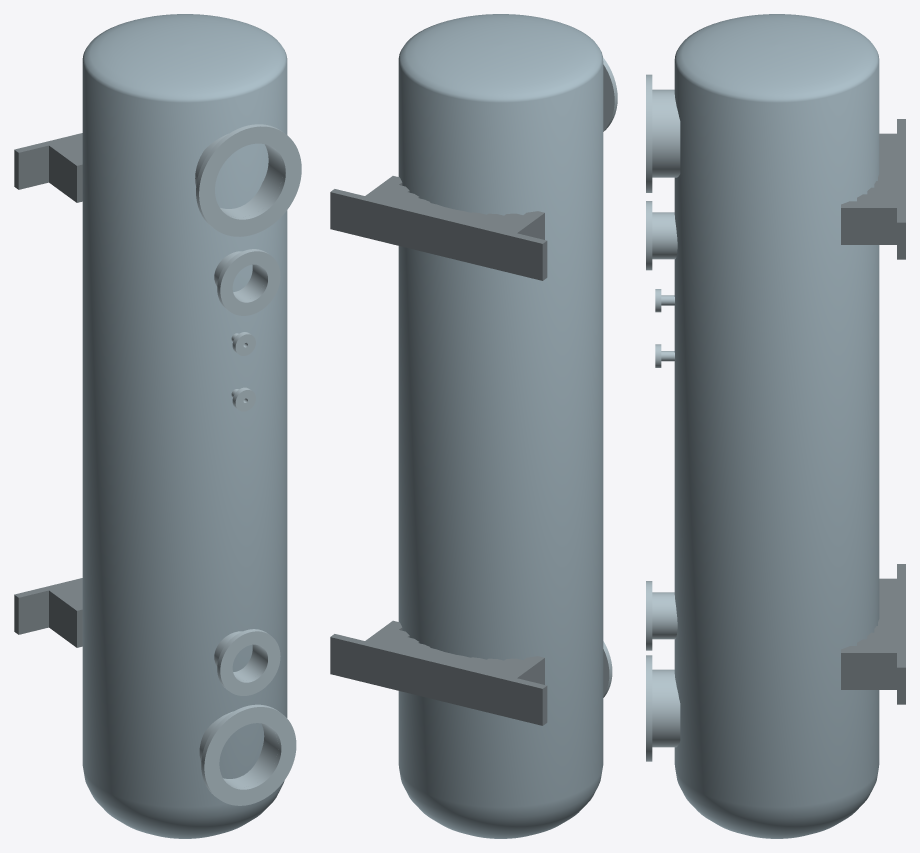
3 renders of one model, left to right at view 1: azimuth 30°, elevation 25°; view 2: azimuth 150°, elevation 25°; view 3: azimuth 270°, elevation 25°, orthographic.
Visible parts, largest first — view 1: 筒体_直段与封头, 接口_法兰01, 接口_法兰02, 接口_法兰03, 接口_法兰04, 鞍座_底板2, 鞍座_底板1, 鞍座_托体2_01, 鞍座_托体1_01, 接口_接管01, 接口_接管02, 接口_接管03 (+1 smaller); view 2: 筒体_直段与封头, 鞍座_底板1, 鞍座_底板2, 接口_法兰01, 鞍座_托体2_01, 鞍座_托体1_01; view 3: 筒体_直段与封头, 鞍座_托体1_11, 鞍座_托体2_11, 接口_接管01, 接口_接管02, 鞍座_底板1, 鞍座_底板2, 接口_接管04, 接口_接管03, 接口_法兰01, 接口_法兰02.
Boxes of the visible parts, left/top/right/bottom form: 筒体_直段与封头: left=82, top=14, right=287, bottom=838; 接口_法兰01: left=196, top=124, right=301, bottom=236; 接口_法兰02: left=201, top=704, right=296, bottom=805; 接口_法兰03: left=217, top=249, right=280, bottom=315; 接口_法兰04: left=217, top=629, right=280, bottom=695; 鞍座_底板2: left=14, top=133, right=82, bottom=189; 鞍座_底板1: left=14, top=578, right=82, bottom=634; 鞍座_托体2_01: left=49, top=142, right=82, bottom=202; 鞍座_托体1_01: left=49, top=587, right=82, bottom=647; 接口_接管01: left=195, top=133, right=282, bottom=217; 接口_接管02: left=199, top=711, right=278, bottom=787; 接口_接管03: left=214, top=251, right=264, bottom=300; 筒体_直段与封头: left=398, top=14, right=603, bottom=838; 鞍座_底板1: left=330, top=634, right=547, bottom=725; 鞍座_底板2: left=330, top=189, right=547, bottom=280; 接口_法兰01: left=603, top=57, right=617, bottom=131; 鞍座_托体2_01: left=503, top=211, right=544, bottom=239; 鞍座_托体1_01: left=503, top=656, right=544, bottom=684; 筒体_直段与封头: left=674, top=14, right=879, bottom=838; 鞍座_托体1_11: left=841, top=646, right=896, bottom=689; 鞍座_托体2_11: left=841, top=201, right=896, bottom=244; 接口_接管01: left=652, top=89, right=680, bottom=177; 接口_接管02: left=652, top=669, right=680, bottom=747; 鞍座_底板1: left=897, top=564, right=905, bottom=704; 鞍座_底板2: left=897, top=119, right=905, bottom=259; 接口_接管04: left=652, top=592, right=677, bottom=639; 接口_接管03: left=652, top=212, right=677, bottom=259; 接口_法兰01: left=646, top=74, right=652, bottom=192; 接口_法兰02: left=646, top=655, right=652, bottom=761.
Size of the model in its own units: 1.2 by 4.21 by 1.27.
